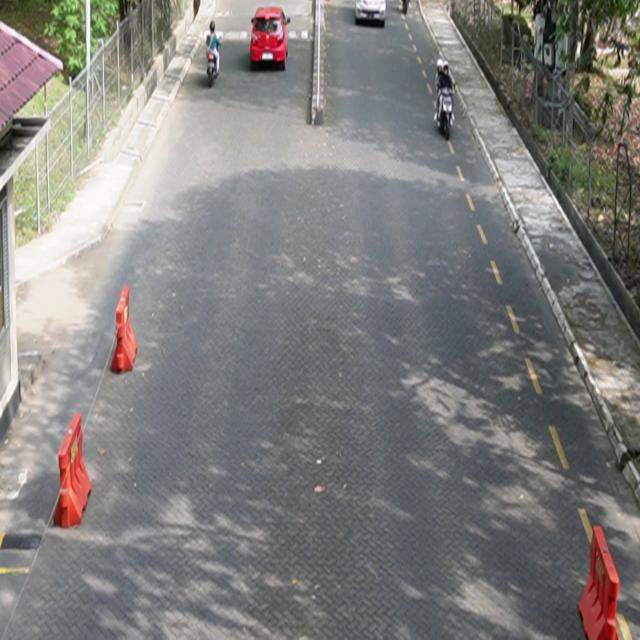car: (251, 6, 291, 71), (356, 1, 387, 27)
